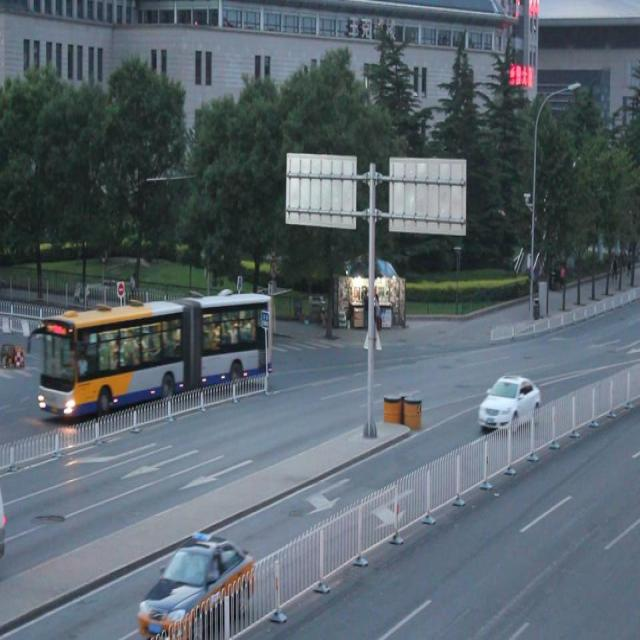car: (138, 531, 253, 633), (480, 371, 540, 431), (150, 299, 211, 354)
van: (39, 294, 276, 416)
